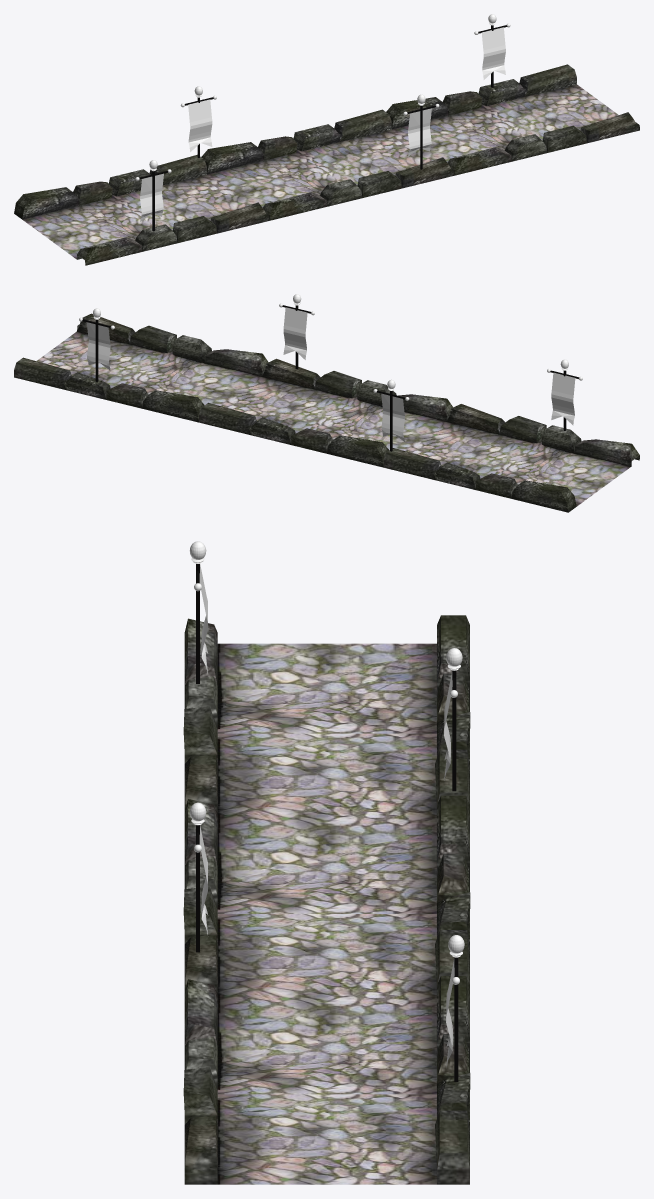
Rendered from road.fbx.
3 views of the same model, one above another, from view 1: azimuth 30°, elevation 25°; view 2: azimuth 150°, elevation 25°; view 3: azimuth 270°, elevation 25° (orthographic). The views are drawn at different scales.
Visible parts, largest first — view 1: Mesh21, Mesh05, Mesh06, Mesh15, Mesh16; view 2: Mesh21, Mesh16, Mesh15, Mesh05, Mesh06; view 3: Mesh21.
Part boxes in pixels (x1,y1,x2,y2): Mesh21: (14, 64, 639, 265); Mesh05: (481, 27, 505, 79); Mesh06: (188, 99, 212, 151); Mesh15: (408, 108, 431, 156); Mesh16: (140, 173, 163, 221); Mesh21: (14, 313, 639, 512); Mesh16: (551, 372, 575, 425); Mesh15: (283, 307, 307, 359); Mesh05: (86, 322, 110, 370); Mesh06: (381, 393, 404, 441); Mesh21: (183, 615, 470, 1184).
Size of the model in its own units: 10.66 by 1.57 by 2.39.
